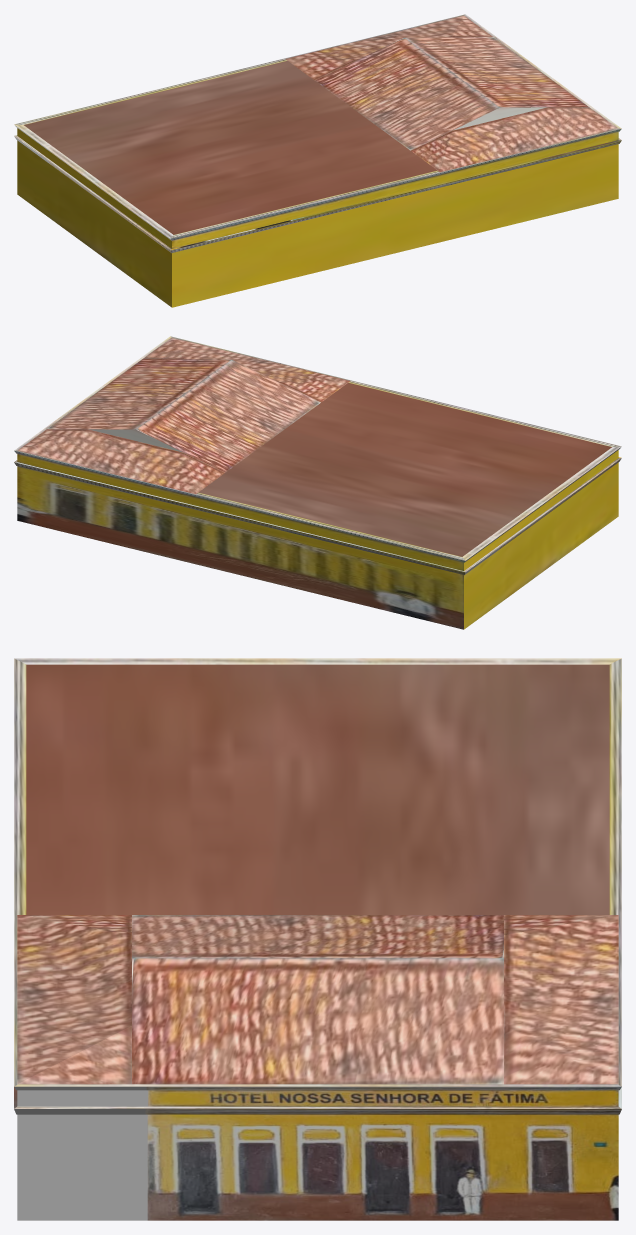
File: hotel-nsf.glb
3 renders of one model, top to bottom at view 1: azimuth 30°, elevation 25°; view 2: azimuth 150°, elevation 25°; view 3: azimuth 270°, elevation 25°, orthographic. The views are drawn at different scales.
Parts seen in each view (by area): view 1: PREDIO, TELHADO 1, TELHADO 2; view 2: PREDIO, TELHADO 1, TELHADO 2; view 3: PREDIO, TELHADO 1, TELHADO 2.
Part boxes in pixels (box(x1,y1,x2,y2)): PREDIO: box(14, 14, 621, 307); TELHADO 1: box(315, 37, 588, 150); TELHADO 2: box(285, 15, 617, 172); PREDIO: box(14, 336, 621, 629); TELHADO 1: box(47, 359, 320, 472); TELHADO 2: box(18, 337, 350, 494); PREDIO: box(14, 658, 621, 1220); TELHADO 1: box(132, 915, 503, 1084); TELHADO 2: box(17, 915, 618, 1084).
Bounding box in the file's own units: 30.33 × 5.86 × 18.2.
1 material, 1 textured.
